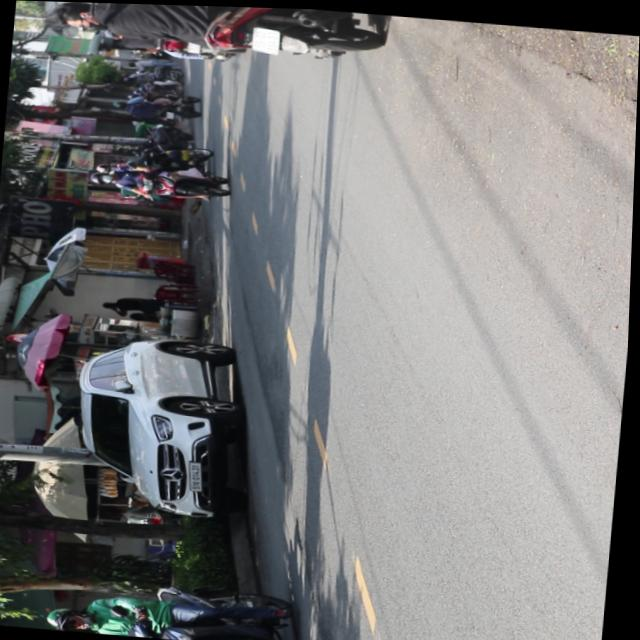helmet: (50, 605, 99, 632)
licenseplate: (41, 1, 385, 68), (46, 571, 313, 640)
motorcyclist: (47, 1, 105, 31)
nohelmet: (251, 25, 280, 52)
